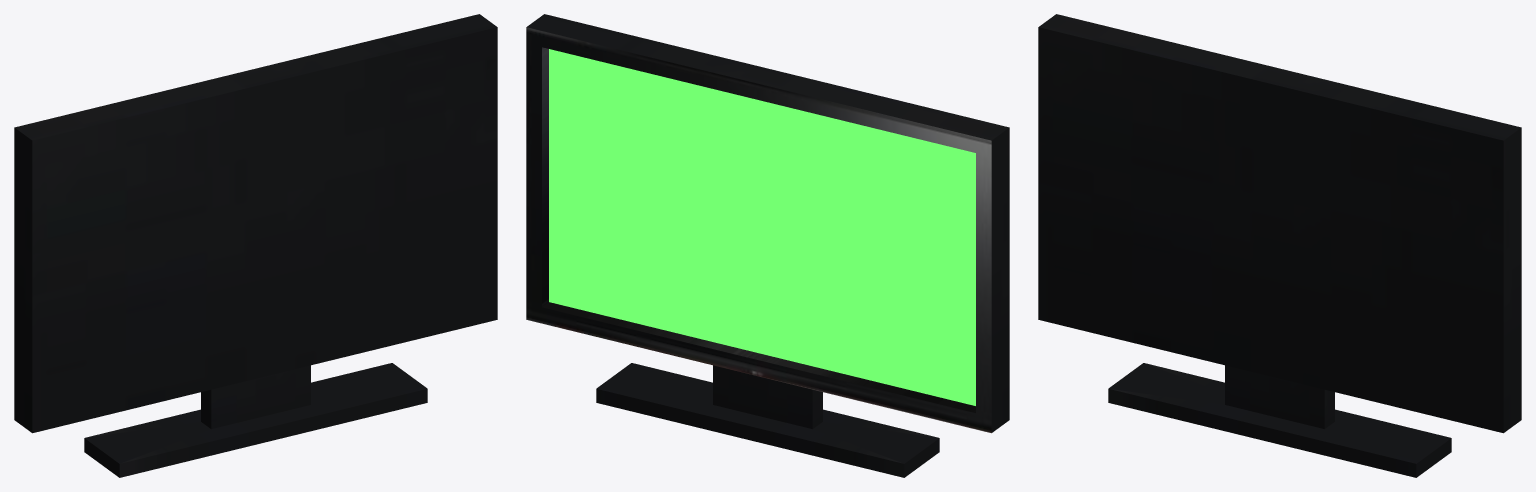
The picture shows the model from 3 angles, left to right: view 1: azimuth 30°, elevation 25°; view 2: azimuth 150°, elevation 25°; view 3: azimuth 330°, elevation 25°; orthographic projection.
Parts seen in each view (by area): view 1: TV_03; view 2: TV_03; view 3: TV_03.
Part boxes in pixels (x1,y1,x2,y2): TV_03: (14,14,497,477); TV_03: (526,14,1009,477); TV_03: (1038,14,1521,477).
Size of the model in its own units: 1.25 by 0.8977 by 0.1646.
Materials: 2 (1 with a texture image).
